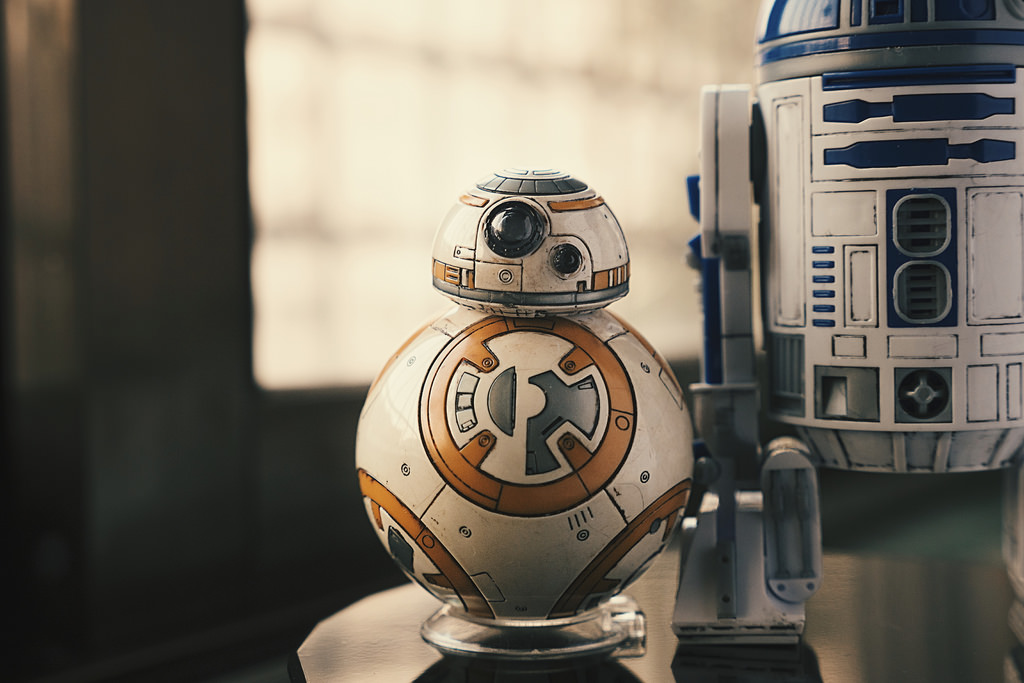bb8: (354, 168, 696, 622)
